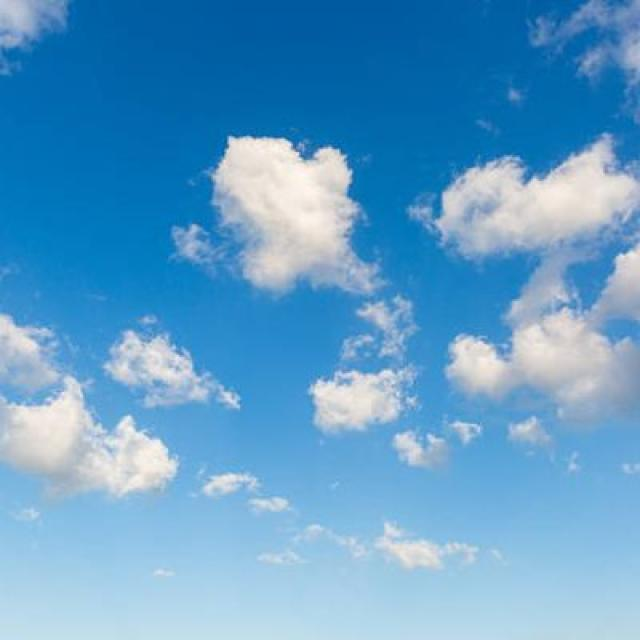Cc: (205, 127, 640, 452)
